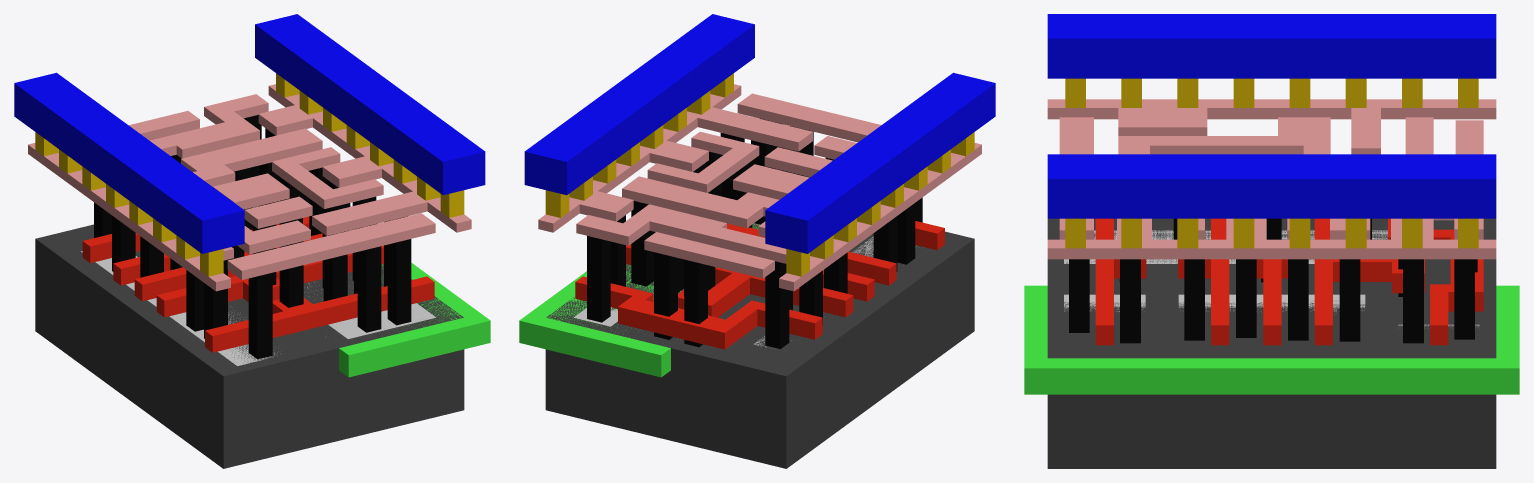
Rendered from sky130_fd_sc_hd__a21bo_1.obj.
3 views of the same model, side by side, from view 1: azimuth 30°, elevation 25°; view 2: azimuth 150°, elevation 25°; view 3: azimuth 270°, elevation 25° (orthographic). The views are drawn at different scales.
Visible parts, largest first — view 1: subs, metal1, li, licon, poly, nwell, mcon, diff, tap; view 2: subs, metal1, li, licon, poly, nwell, mcon; view 3: metal1, subs, li, nwell, licon, poly, mcon, tap, diff.
Boxes of the visible parts, box(x1,y1,x2,y2) form: subs: box(35, 206, 464, 468); metal1: box(14, 14, 485, 253); li: box(28, 84, 471, 291); licon: box(94, 115, 411, 359); poly: box(82, 216, 434, 352); nwell: box(254, 207, 490, 377); mcon: box(35, 73, 464, 276); diff: box(81, 251, 278, 365); tap: box(304, 283, 435, 338); subs: box(545, 223, 974, 468); metal1: box(524, 14, 995, 253); li: box(538, 84, 981, 291); licon: box(587, 118, 922, 348); poly: box(575, 221, 944, 349); nwell: box(519, 224, 758, 377); mcon: box(545, 73, 974, 276); metal1: box(1047, 14, 1496, 218); subs: box(1047, 218, 1496, 468); li: box(1047, 99, 1496, 259); nwell: box(1024, 285, 1519, 394); licon: box(1069, 218, 1477, 343); poly: box(1095, 218, 1483, 345); mcon: box(1065, 78, 1478, 248); tap: box(1064, 294, 1479, 328); diff: box(1064, 230, 1387, 263).
Size of the model in its own units: 3.2 by 2.74 by 4.06.
